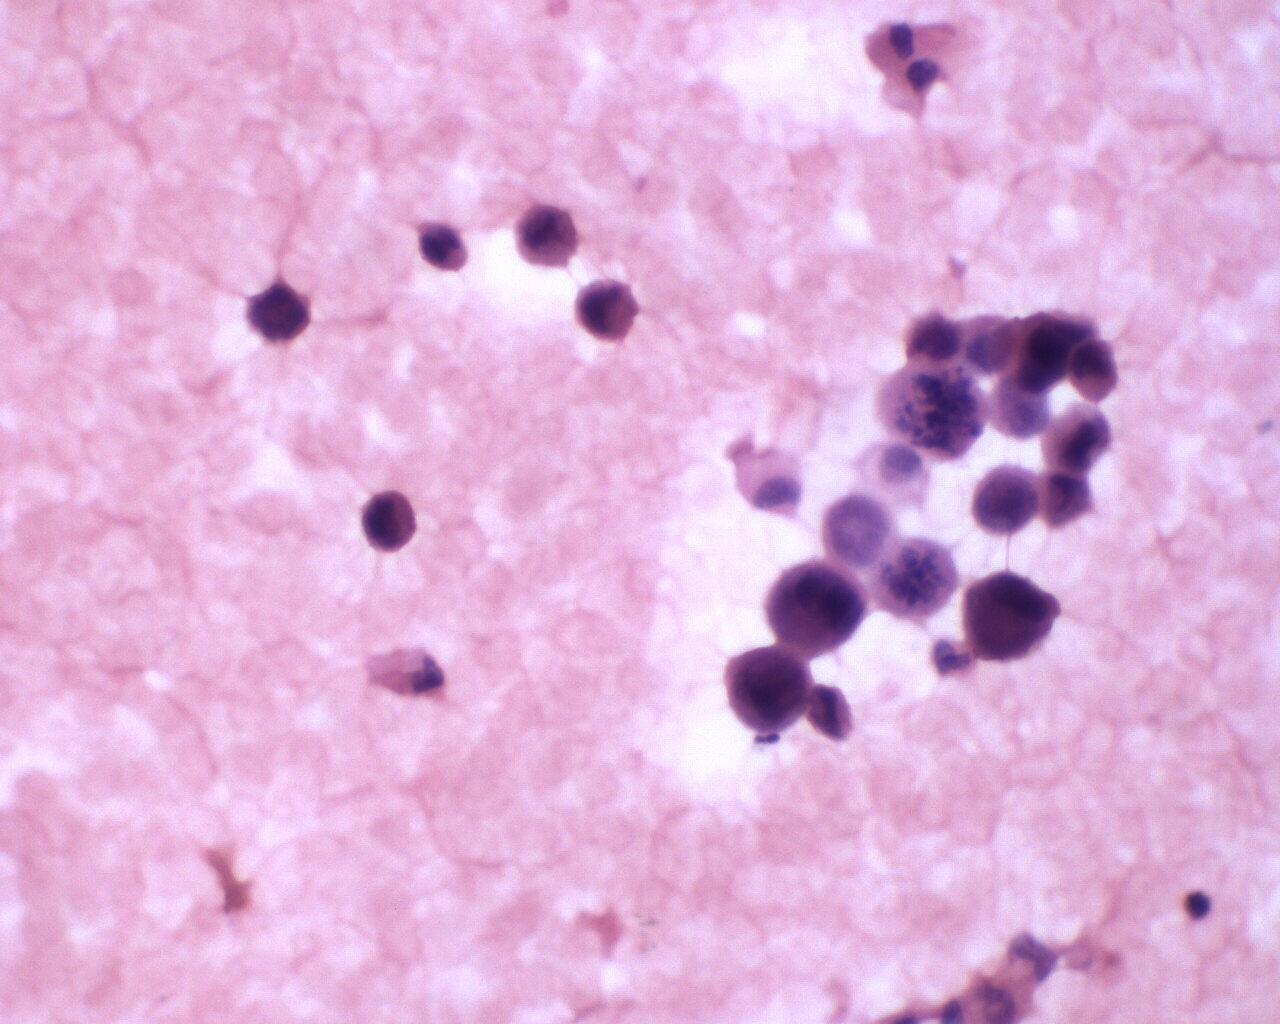ab: (764, 558, 868, 656), (959, 572, 1061, 670), (718, 639, 815, 742), (965, 461, 1048, 538), (357, 485, 420, 559)
